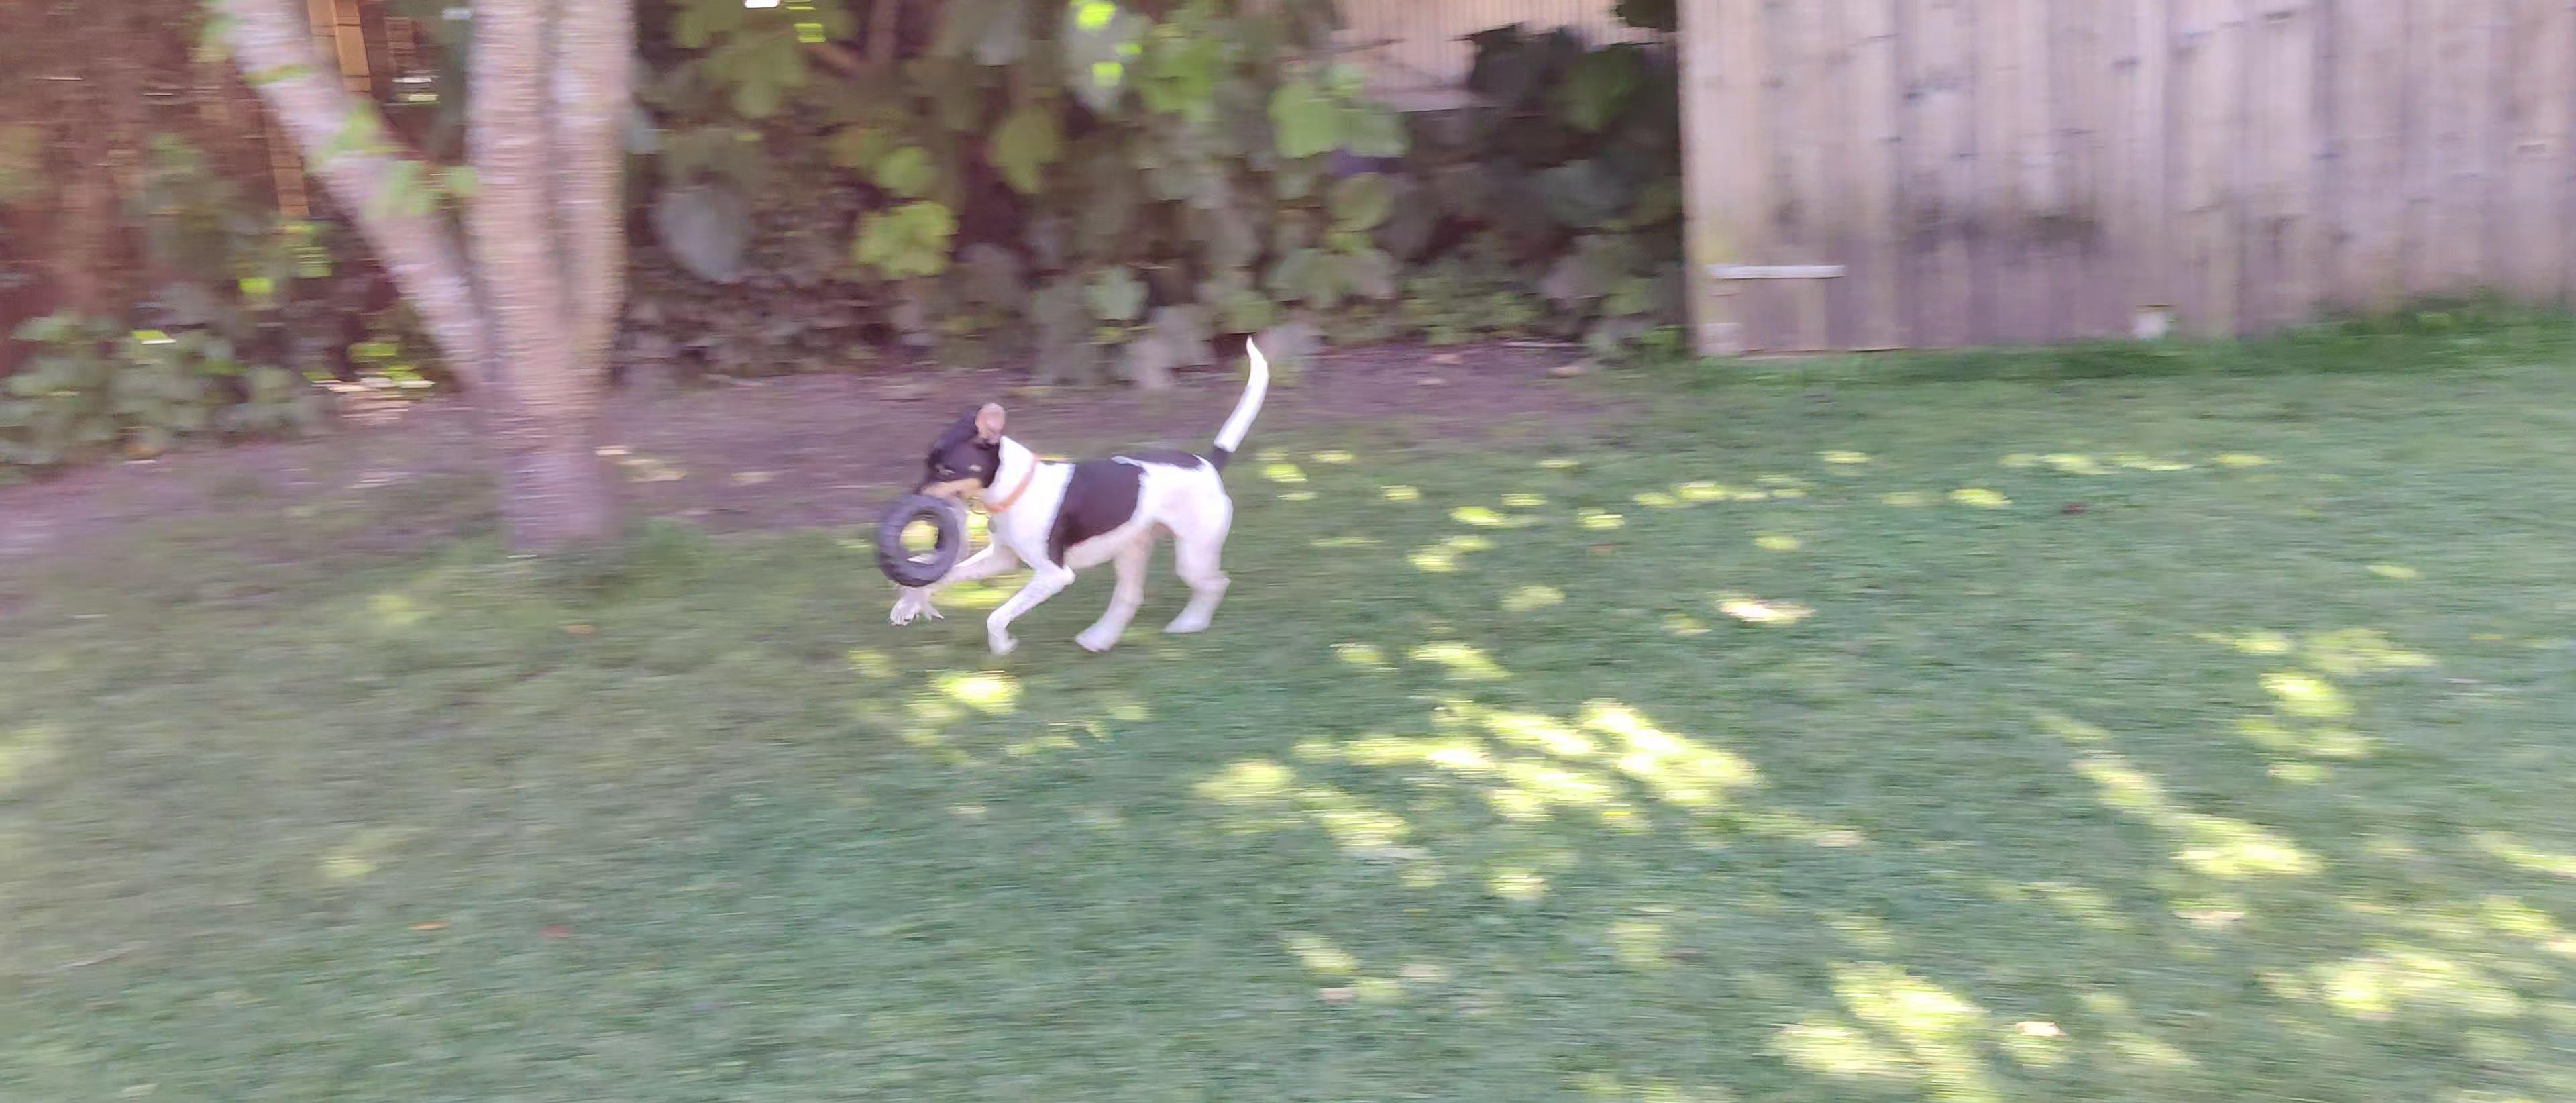Dog: (876, 324, 1278, 654)
